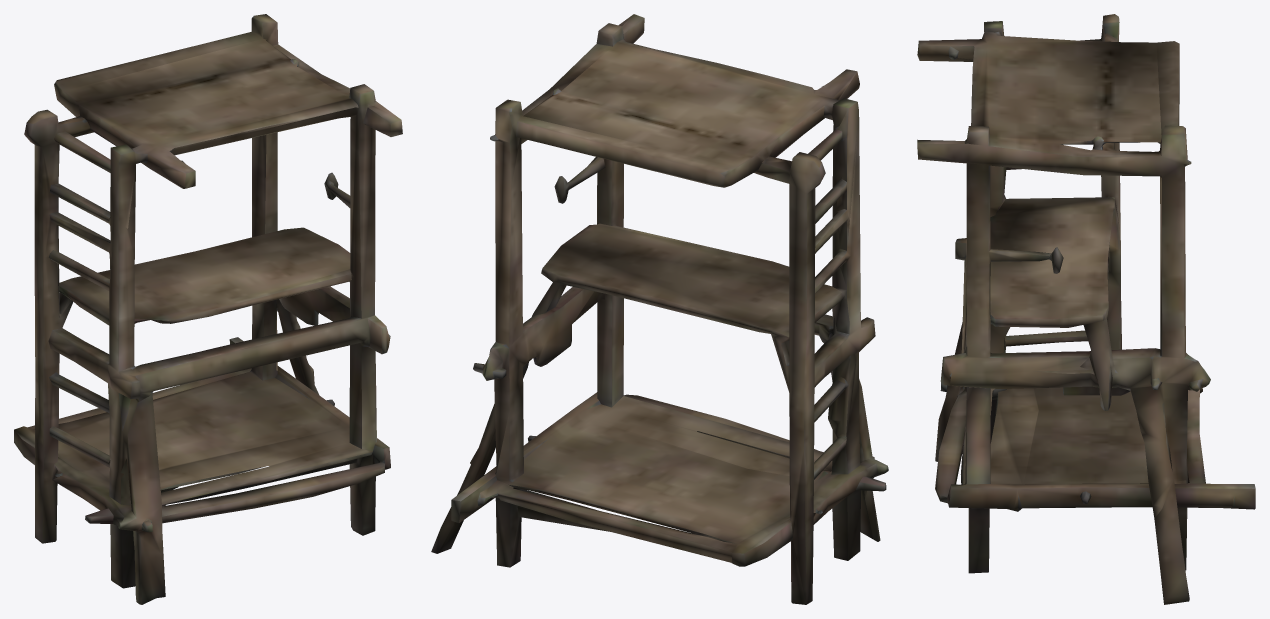
The model's file is simple-wood-scaffold-tower-v003.glb.
The picture shows the model from 3 angles, left to right: view 1: azimuth 30°, elevation 25°; view 2: azimuth 150°, elevation 25°; view 3: azimuth 270°, elevation 25°; orthographic projection. The views are drawn at different scales.
Parts seen in each view (by area): view 1: simple-wood-scaffold-tower; view 2: simple-wood-scaffold-tower; view 3: simple-wood-scaffold-tower.
Part boxes in pixels (x1,y1,x2,y2): simple-wood-scaffold-tower: (14,14,402,604); simple-wood-scaffold-tower: (431,14,888,604); simple-wood-scaffold-tower: (917,14,1255,604).
Size of the model in its own units: 2.62 by 3.29 by 2.27.
1 material, 1 textured.
